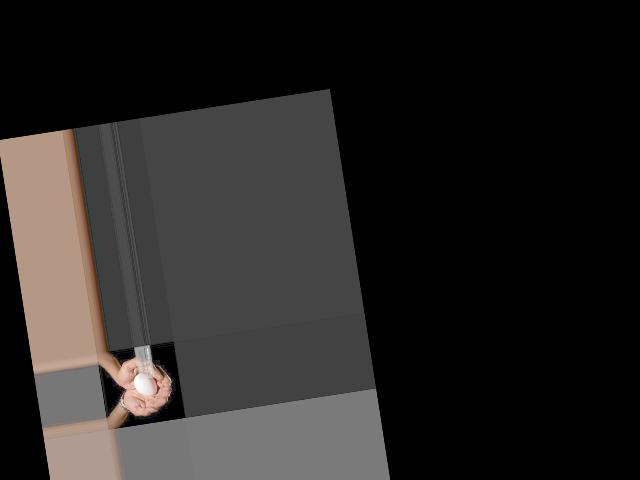egg: (132, 371, 159, 398)
